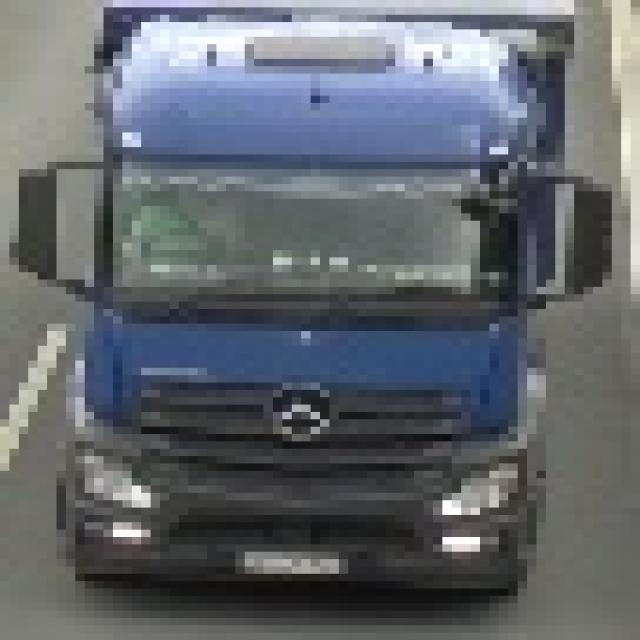TRUCK: (8, 6, 602, 600)
